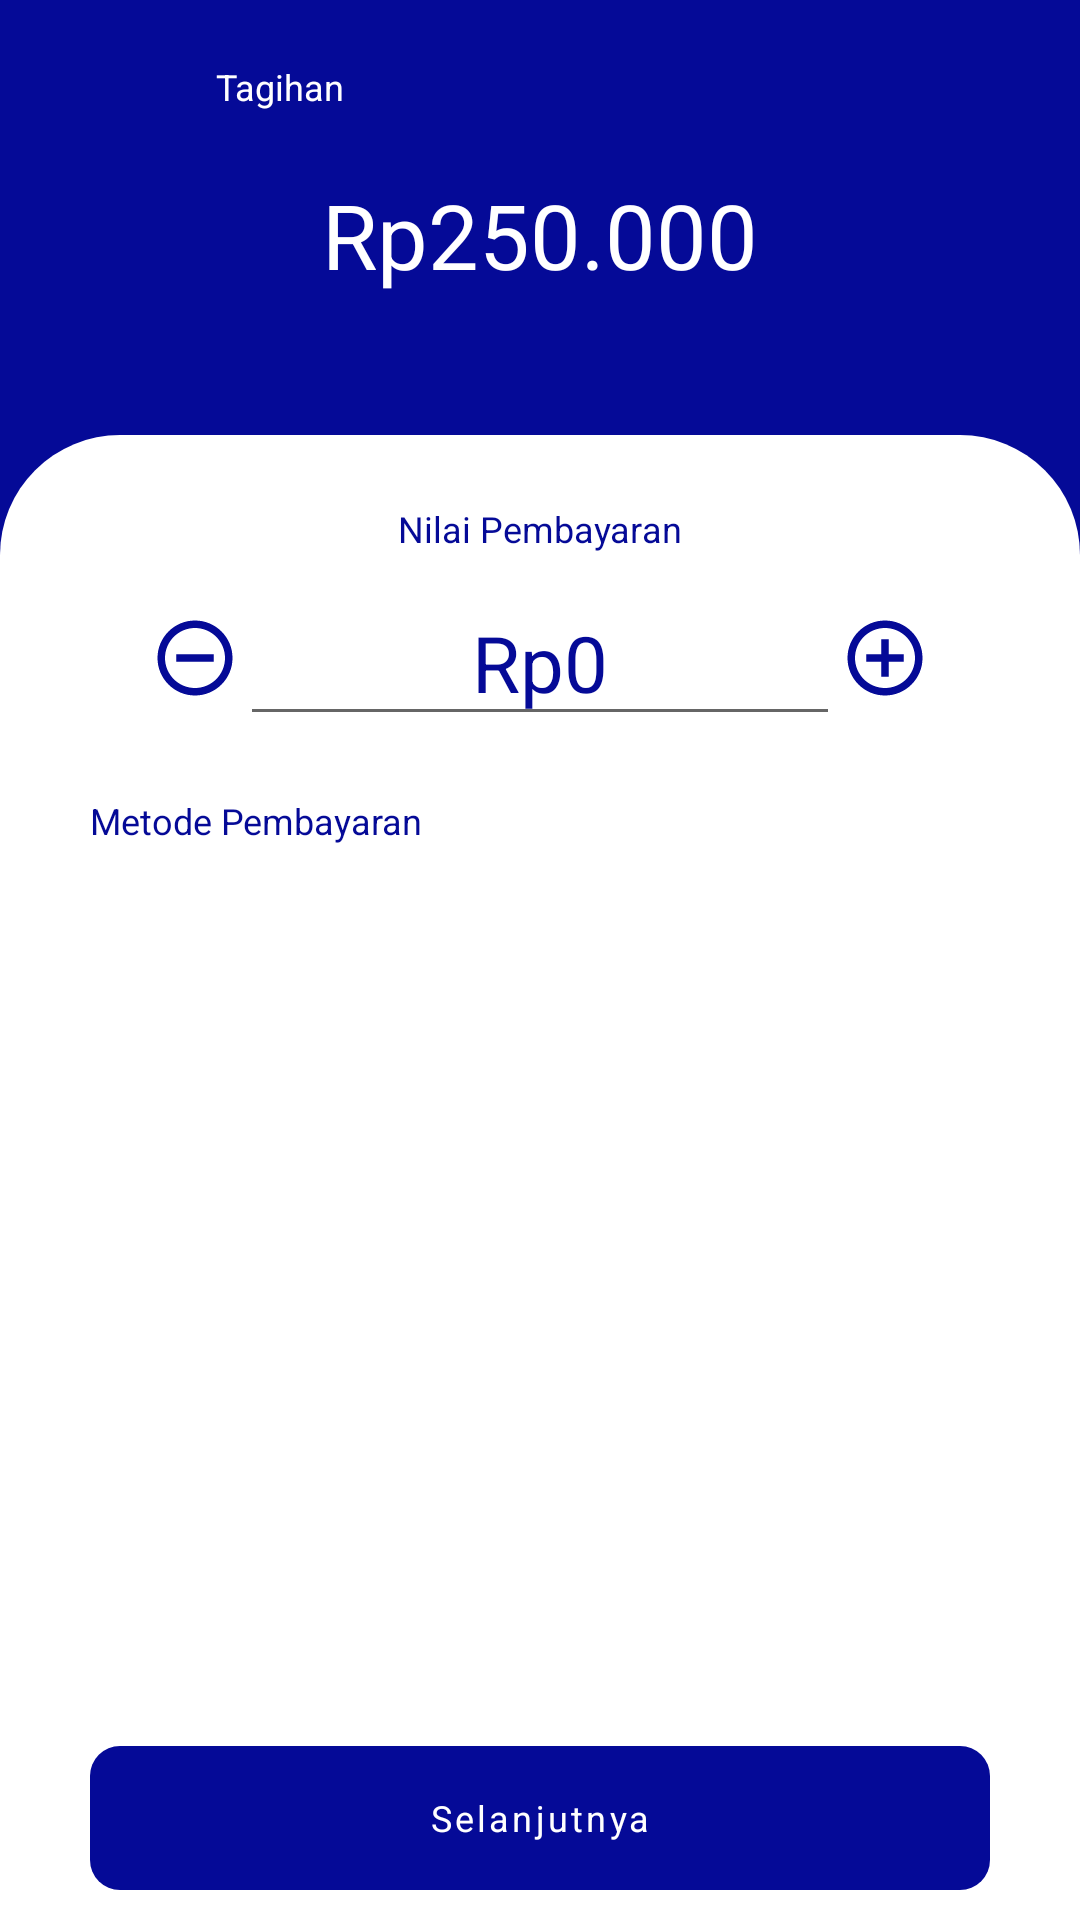

Named icons in this screenshot (1080w x 1920h) and their centers, [x,y]:
add circle: [885,658]
remove circle: [195,658]
